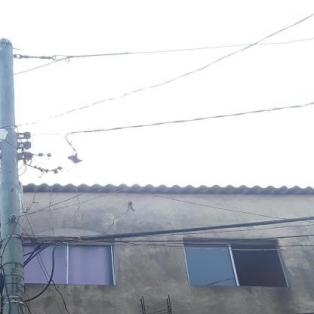Poste: (0, 30, 42, 314)
